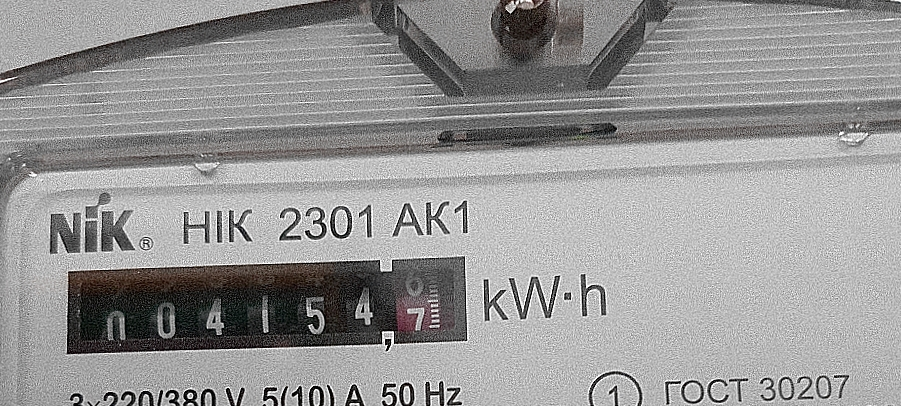0: (154, 298, 177, 340), (104, 305, 127, 340)
1: (258, 292, 272, 334)
4: (202, 295, 226, 336), (352, 282, 374, 326)
5: (303, 290, 328, 335)
6: (403, 266, 426, 297)
7: (404, 303, 426, 332)
screen: (49, 241, 485, 367)
